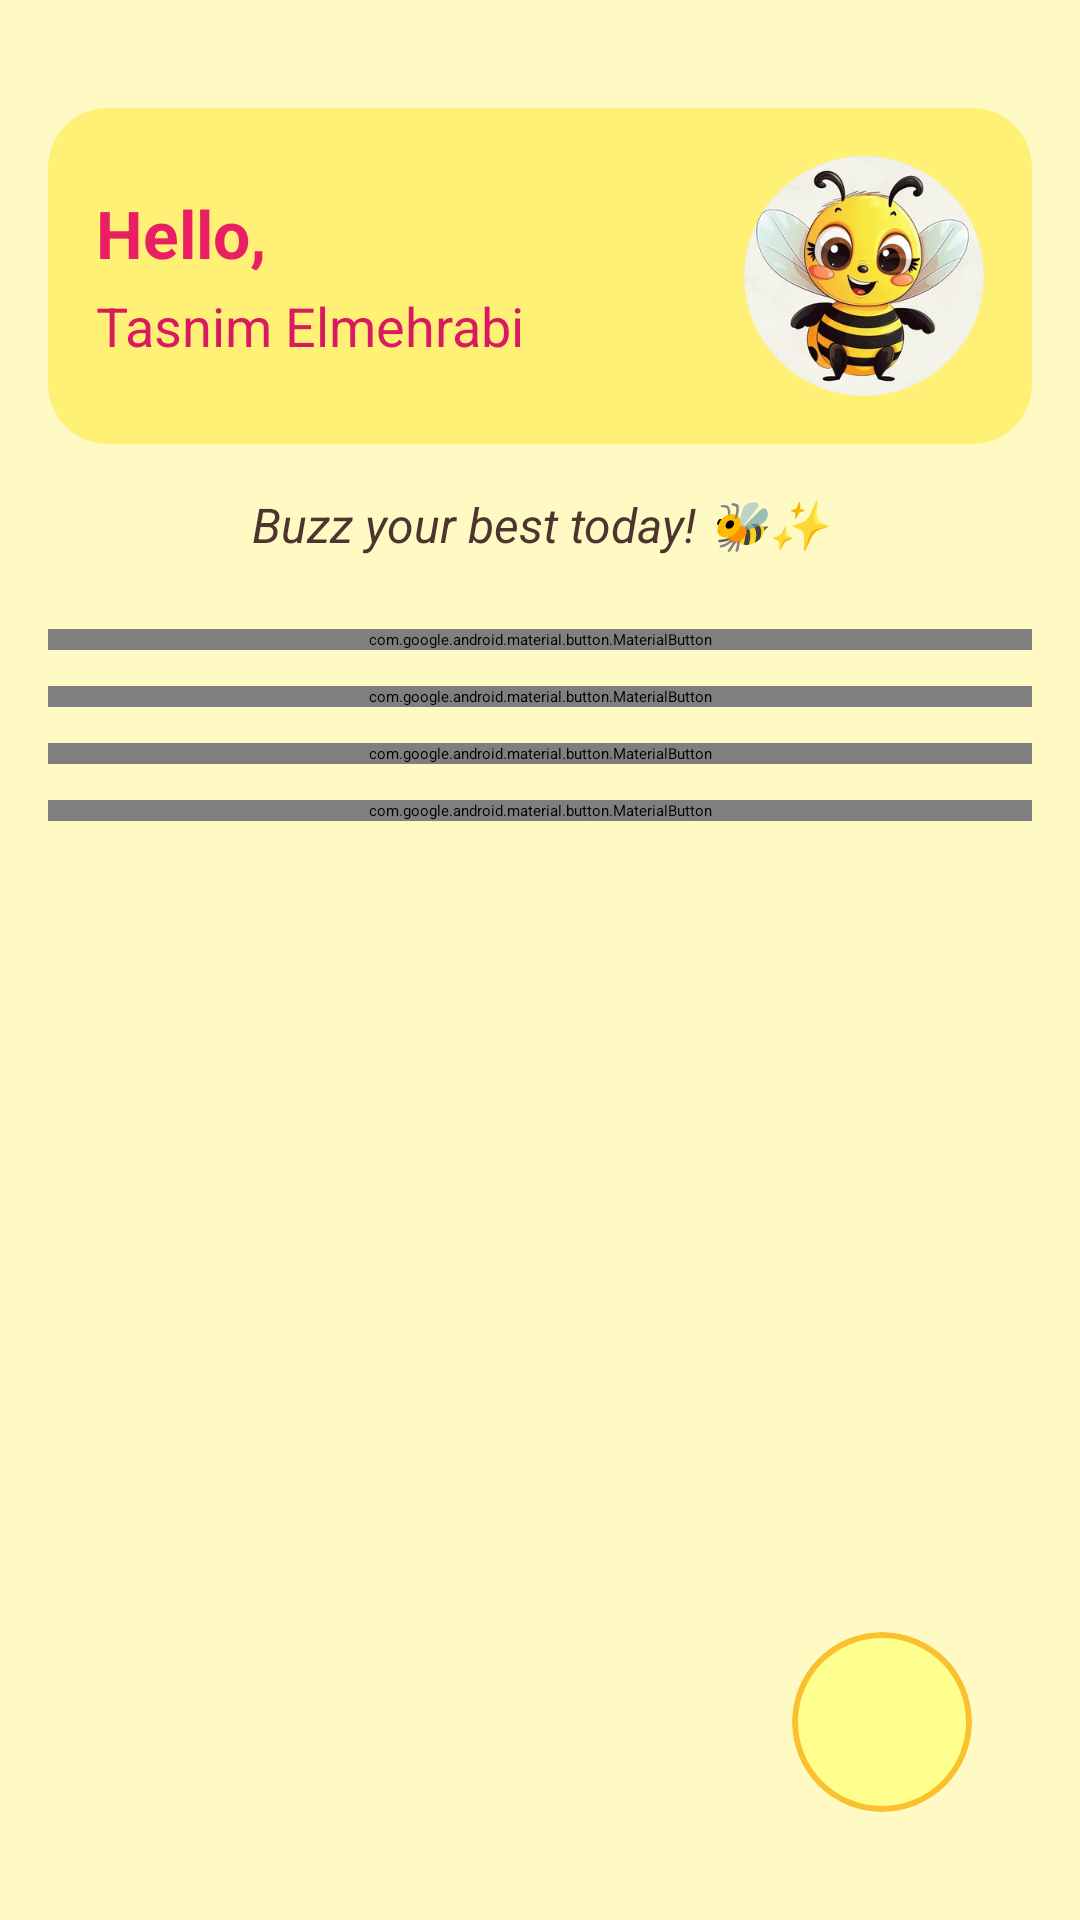

Where to tap for icons on this 1080px×1920px app screen, as point (x, y):
Bee icon: point (864, 276)
